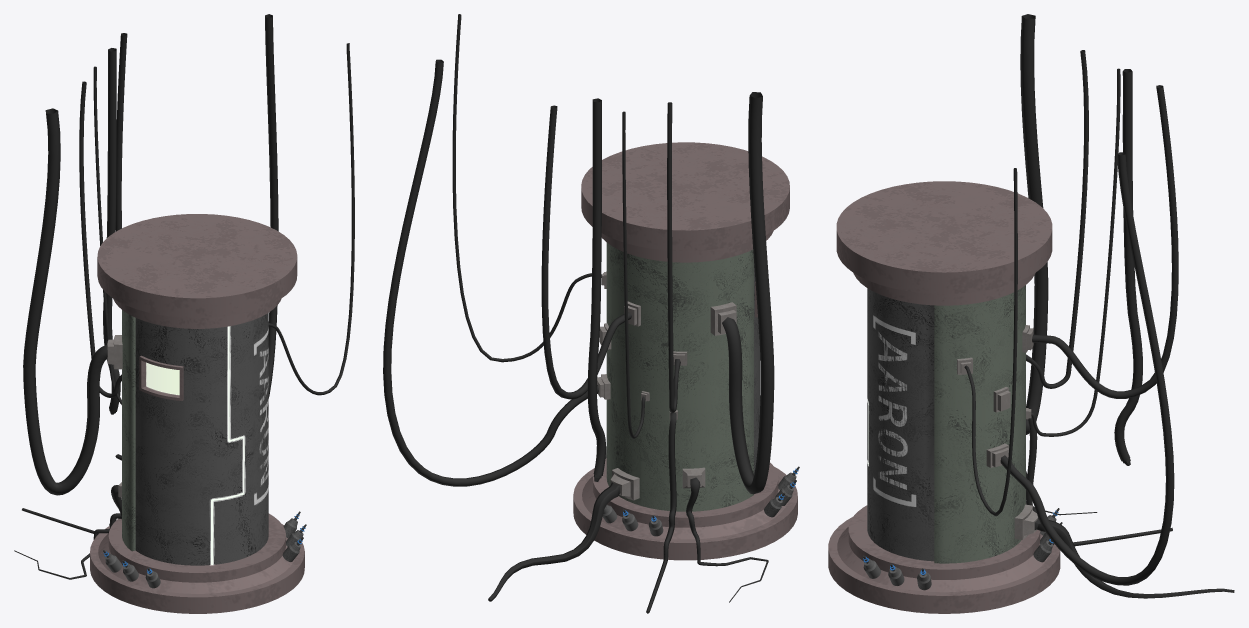
Rendered from aaron_capsule.glb.
3 renders of one model, left to right at view 1: azimuth 30°, elevation 25°; view 2: azimuth 150°, elevation 25°; view 3: azimuth 270°, elevation 25°, orthographic. The views are drawn at different scales.
Parts seen in each view (by area): view 1: pCylinder26; view 2: pCylinder26; view 3: pCylinder26.
Part boxes in pixels (x1,y1,x2,y2): pCylinder26: (14, 14, 354, 613); pCylinder26: (383, 14, 799, 613); pCylinder26: (828, 14, 1234, 613).
Size of the model in its own units: 5.17 by 7.17 by 5.26.
Materials: 1 (1 with a texture image).
